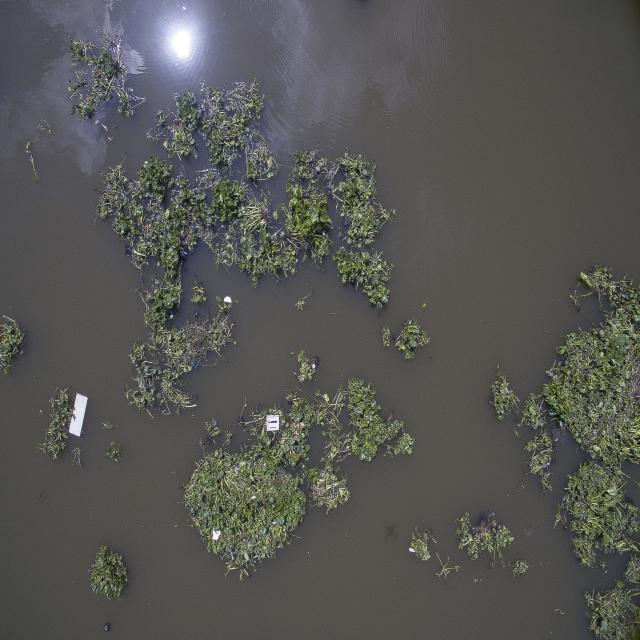plastic: (62, 378, 98, 452), (257, 407, 289, 444), (209, 525, 225, 554), (221, 290, 238, 314)
